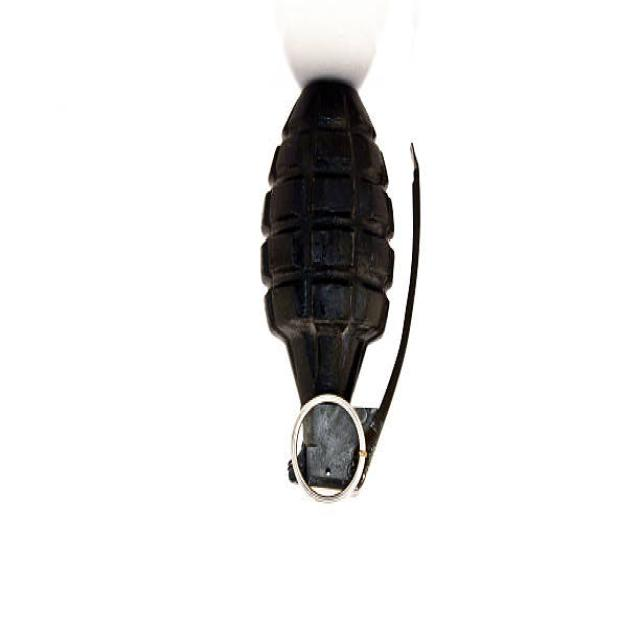grenade: (261, 74, 429, 510)
